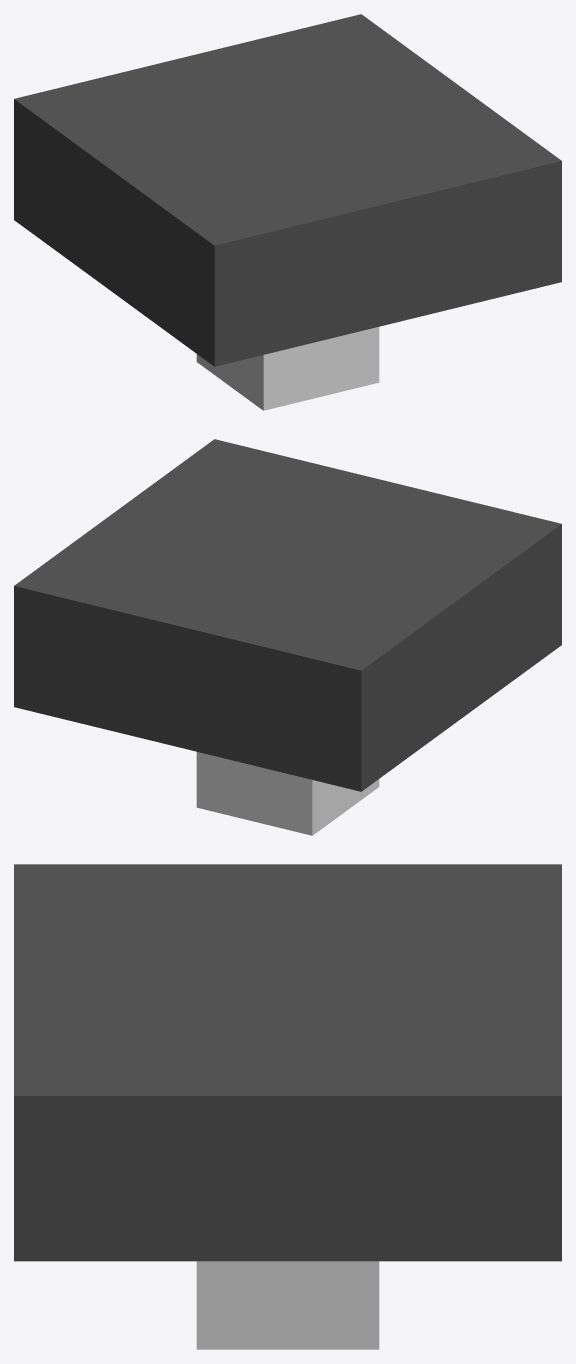
File: obj_mushroom3.fbx
The picture shows the model from 3 angles, top to bottom: view 1: azimuth 30°, elevation 25°; view 2: azimuth 150°, elevation 25°; view 3: azimuth 270°, elevation 25°; orthographic projection. The views are drawn at different scales.
Visible parts, largest first — view 1: obj_mushroom3; view 2: obj_mushroom3; view 3: obj_mushroom3.
Part boxes in pixels (bbox=[...]): obj_mushroom3: bbox=[14, 14, 561, 410]; obj_mushroom3: bbox=[14, 439, 561, 835]; obj_mushroom3: bbox=[14, 864, 561, 1349].
Bounding box in the file's own units: 0.3 × 0.3 × 0.2.
1 material, 1 textured.
